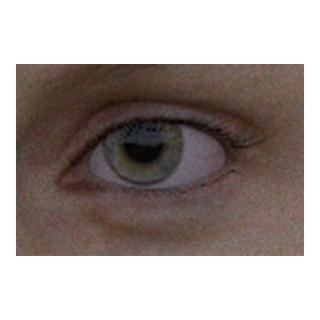pupil: (124, 124, 162, 162)
